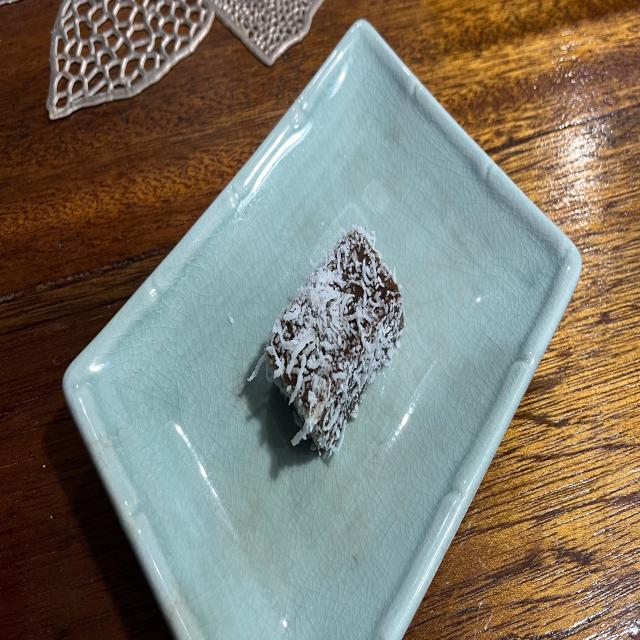kaswi: (249, 227, 404, 456)
